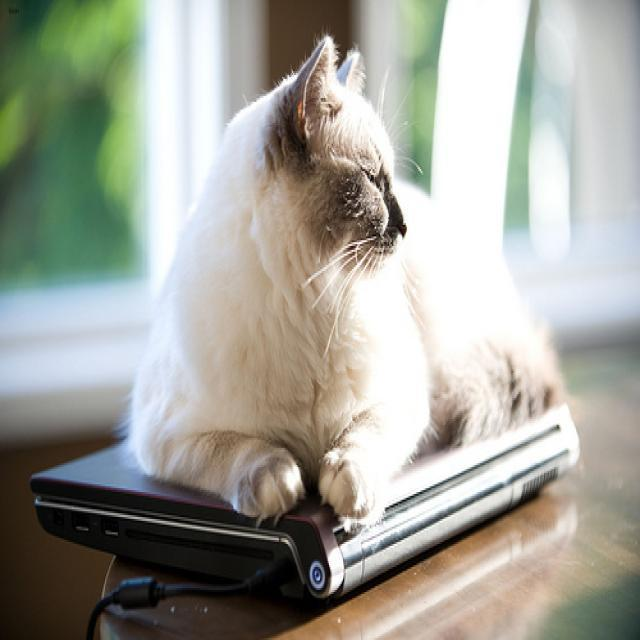Ragdoll: (272, 35, 405, 271)
